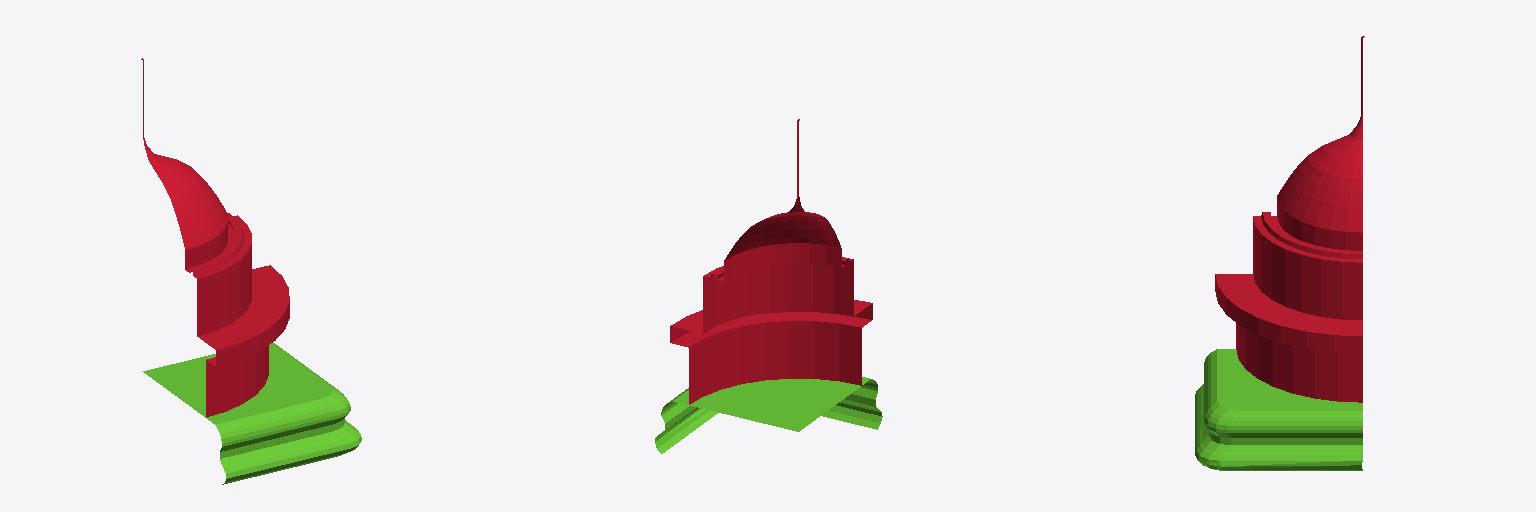
The model's file is roof_round.obj.
The picture shows the model from 3 angles: view 1: azimuth 30°, elevation 25°; view 2: azimuth 150°, elevation 25°; view 3: azimuth 270°, elevation 25°; orthographic projection.
Parts seen in each view (by area): view 1: Circle, Plane.001; view 2: Circle, Plane.001; view 3: Circle, Plane.001.
Boxes of the visible parts, box(x1,y1,x2,y2) form: Circle: box(141, 58, 289, 417); Plane.001: box(143, 343, 361, 484); Circle: box(670, 119, 872, 404); Plane.001: box(655, 377, 882, 453); Circle: box(1215, 36, 1364, 402); Plane.001: box(1195, 349, 1362, 470).
Bounding box in the file's own units: 3.23 × 7.71 × 3.23.